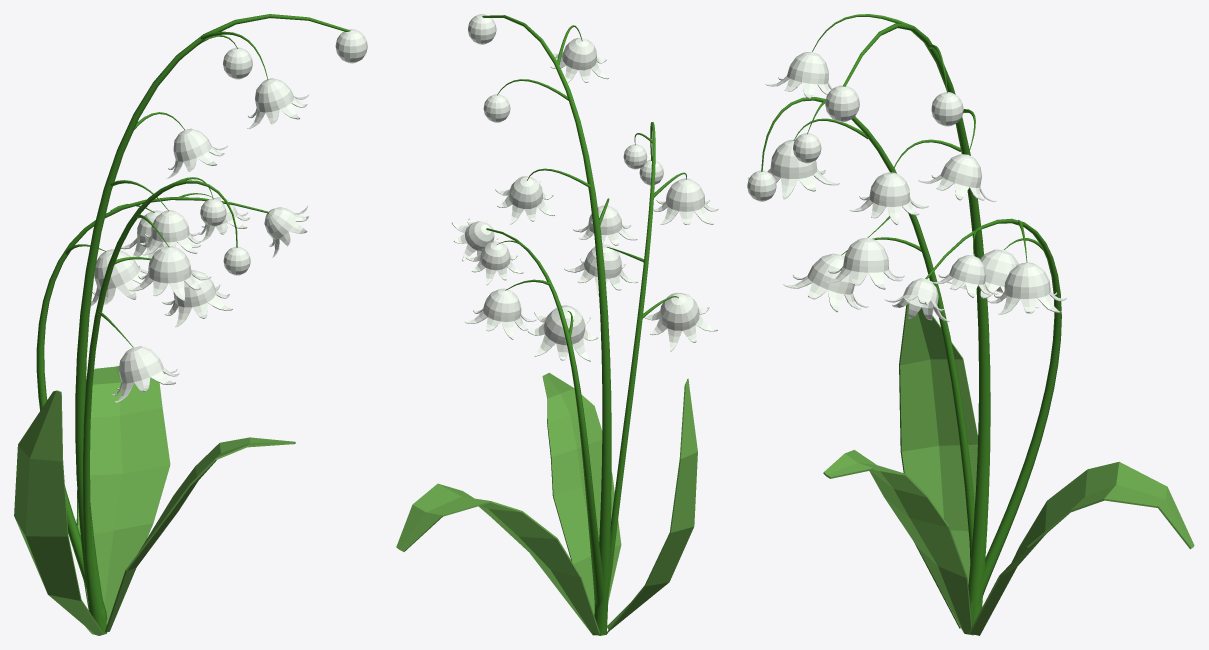
Rendered from Lily of the valley.fbx.
3 renders of one model, left to right at view 1: azimuth 30°, elevation 25°; view 2: azimuth 150°, elevation 25°; view 3: azimuth 270°, elevation 25°, orthographic. The views are drawn at different scales.
Visible parts, largest first — view 1: Plane, Stem, Plane.001, Plane.002, Sphere.006, Sphere.003, Sphere.004, Sphere.008, Sphere.005, Sphere.009, Sphere.007, Sphere.002 (+6 smaller); view 2: Stem, Plane.002, Plane, Plane.001, Sphere.003, Sphere.004, Sphere.006, Sphere, Sphere.007, Sphere.008, Sphere.005, Sphere.001 (+5 smaller); view 3: Stem, Plane.001, Plane.002, Plane, Sphere, Sphere.005, Sphere.003, Sphere.009, Sphere.006, Sphere.007, Sphere.008, Sphere.002 (+6 smaller).
Boxes of the visible parts, x1,y1,x2,y2 form: Plane: [76, 366, 170, 625]; Stem: [36, 14, 350, 635]; Plane.001: [14, 390, 103, 634]; Plane.002: [105, 437, 295, 632]; Sphere.006: [129, 246, 211, 301]; Sphere.003: [111, 346, 180, 402]; Sphere.004: [90, 249, 147, 305]; Sphere.008: [247, 78, 309, 129]; Sphere.005: [162, 270, 232, 327]; Sphere.009: [140, 210, 201, 255]; Sphere.007: [166, 128, 228, 178]; Sphere.002: [264, 205, 309, 257]; Stem: [482, 15, 686, 635]; Plane.002: [542, 372, 621, 614]; Plane: [396, 483, 599, 635]; Plane.001: [606, 378, 697, 634]; Sphere.003: [644, 292, 717, 351]; Sphere.004: [527, 305, 598, 361]; Sphere.006: [653, 178, 718, 224]; Sphere: [465, 288, 536, 339]; Sphere.007: [495, 176, 555, 224]; Sphere.008: [550, 38, 608, 82]; Sphere.005: [564, 244, 638, 295]; Sphere.001: [466, 241, 523, 285]; Stem: [761, 14, 1061, 635]; Plane.001: [899, 303, 977, 628]; Plane.002: [823, 450, 971, 633]; Plane: [969, 461, 1194, 635]; Sphere: [988, 262, 1066, 314]; Sphere.005: [825, 238, 904, 289]; Sphere.003: [783, 253, 868, 312]; Sphere.009: [849, 172, 928, 225]; Sphere.006: [748, 139, 839, 199]; Sphere.007: [918, 154, 996, 202]; Sphere.008: [765, 52, 832, 99]; Sphere.002: [884, 278, 950, 321].
Size of the model in its own units: 197 by 395 by 239.
